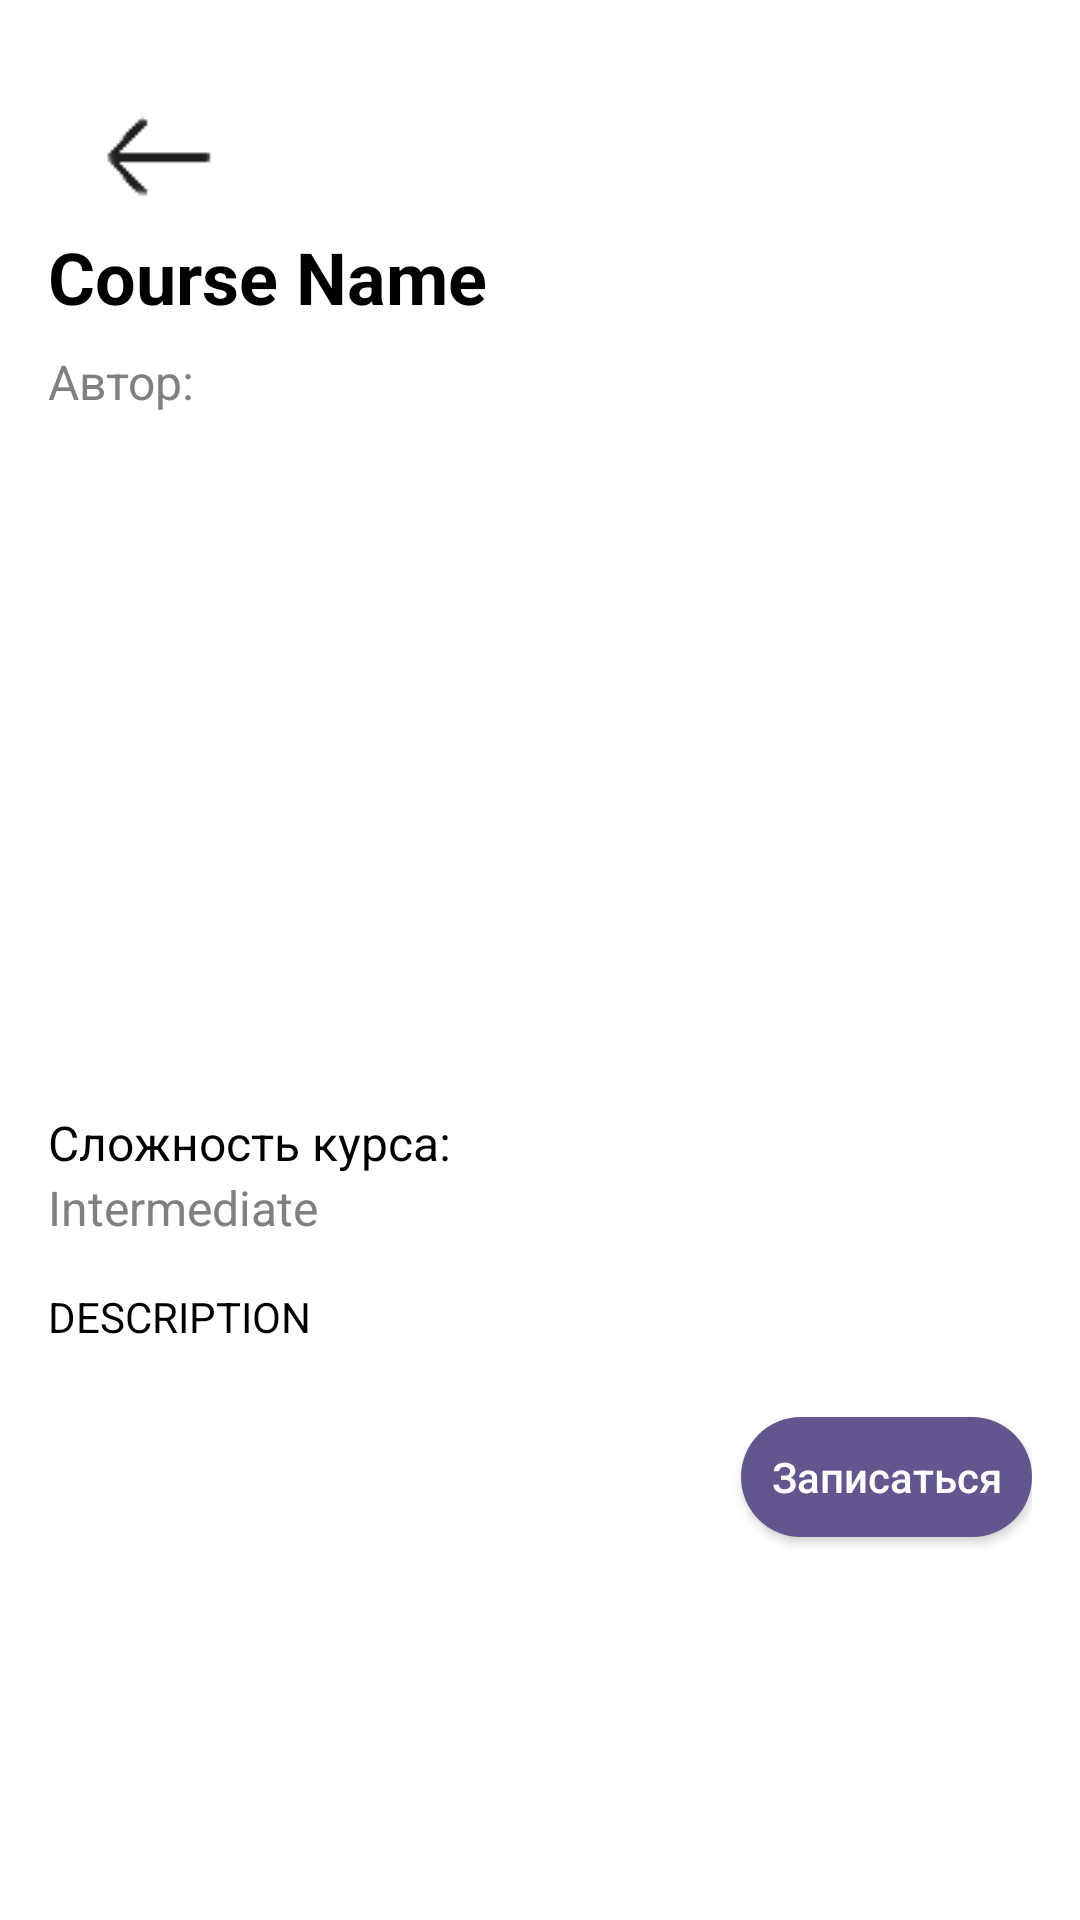

Where to tap for icons on this 1080 x 1920 app screen, as [x,y]:
back arrow: [159,156]
